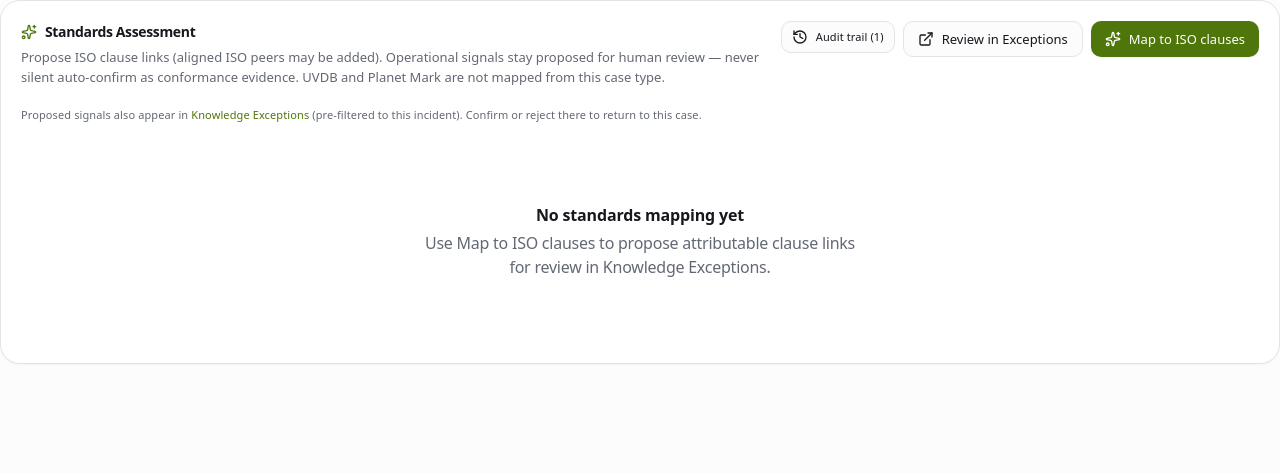
StandardsAssessmentPanel audit trail › toggles audit trail panel with persisted confirm entries
The width and height of the screenshot is (1280, 473).
Step 1. Click the button with test id "assessment-trail-toggle" → (838, 37), box x1=781 y1=21 x2=895 y2=53
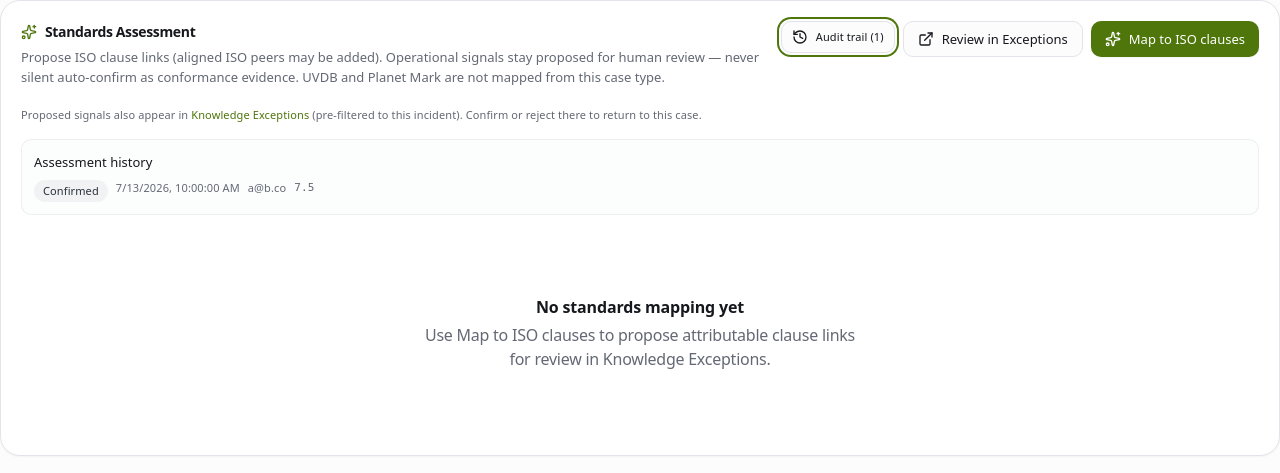
Expected: the element with test id "assessment-trail-panel" shows "Confirmed", x1=43 y1=183 x2=99 y2=198
Expected: the element with test id "assessment-trail-panel" shows "7.5", x1=294 y1=181 x2=314 y2=194
